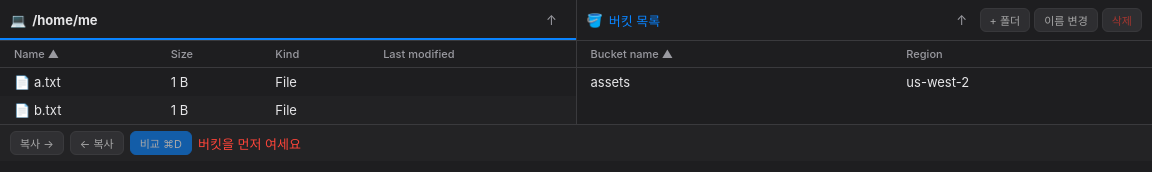
Finder drop on the S3 pane uploads; before opening a bucket it explains
expect the text "버킷을 먼저 여세요" is shown: met, box [198,134,301,152]
Double-click the text "assets" at (610, 82), box [576,68,892,96]
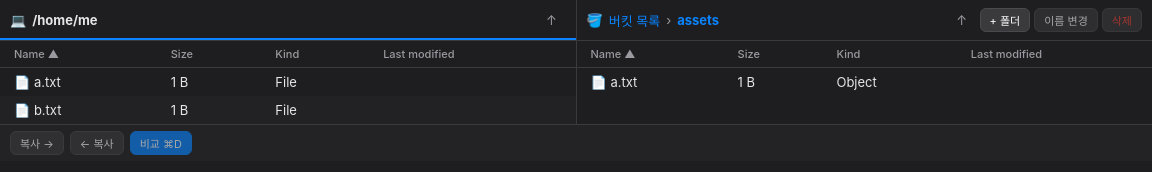
expect the text "📄 a.txt" in the row of "Object" is shown: met, box [590,74,637,90]
